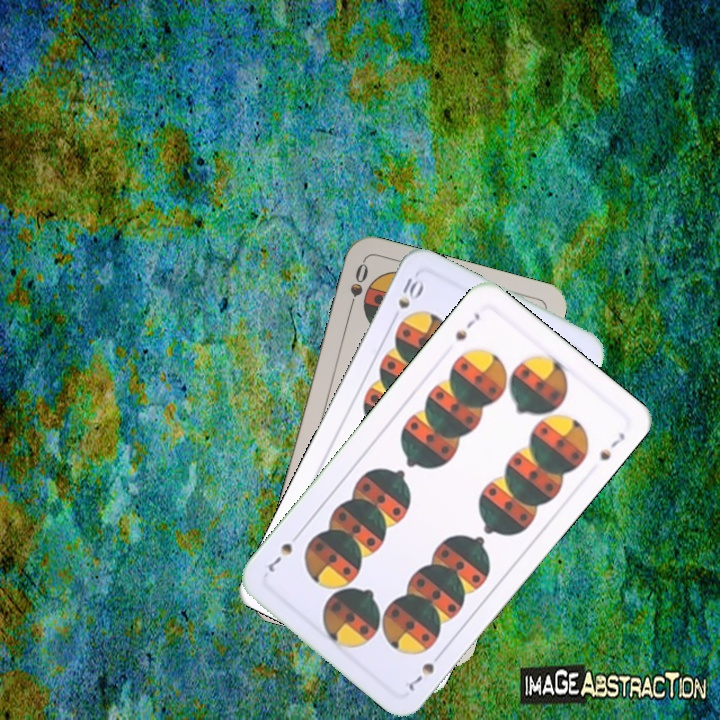S10: (387, 273, 427, 325)
S7: (404, 647, 446, 695), (451, 309, 483, 343)
SO: (344, 258, 371, 316)
